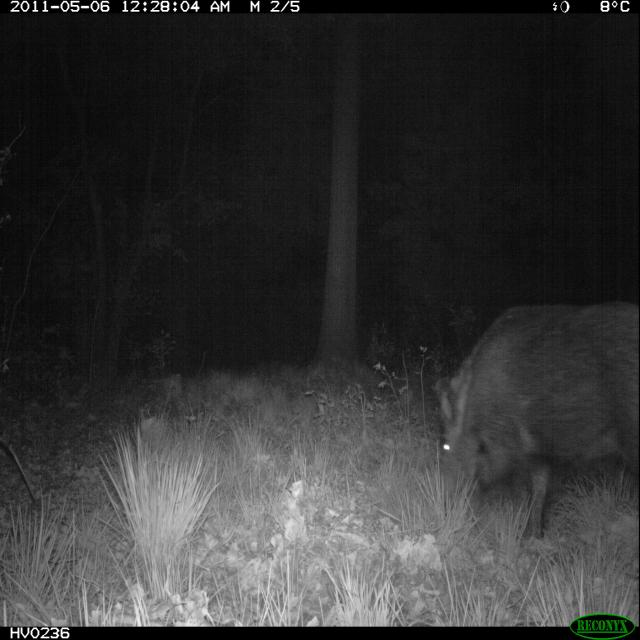boar: (382, 272, 640, 567)
